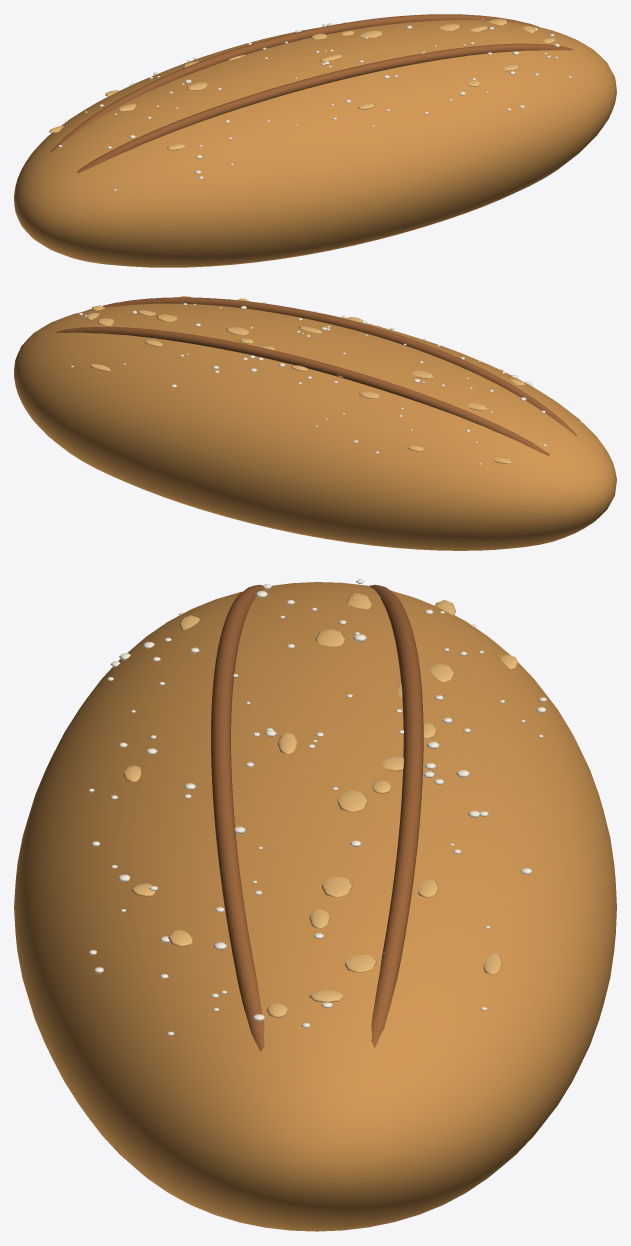
The model's file is Teleras.glb.
3 renders of one model, top to bottom at view 1: azimuth 30°, elevation 25°; view 2: azimuth 150°, elevation 25°; view 3: azimuth 270°, elevation 25°, orthographic. The views are drawn at different scales.
Parts seen in each view (by area): view 1: Telera_Mexicana, Hendidura_Izquierda, Hendidura_Derecha; view 2: Telera_Mexicana, Hendidura_Derecha, Hendidura_Izquierda; view 3: Telera_Mexicana, Hendidura_Izquierda, Hendidura_Derecha.
Part boxes in pixels (bbox=[...]): Telera_Mexicana: bbox=[14, 20, 616, 267]; Hendidura_Izquierda: bbox=[77, 43, 573, 172]; Hendidura_Derecha: bbox=[50, 14, 538, 152]; Telera_Mexicana: bbox=[14, 303, 616, 550]; Hendidura_Derecha: bbox=[55, 327, 549, 456]; Hendidura_Izquierda: bbox=[84, 297, 577, 435]; Telera_Mexicana: bbox=[14, 582, 616, 1231]; Hendidura_Izquierda: bbox=[211, 584, 264, 1051]; Hendidura_Derecha: bbox=[369, 584, 423, 1048].
Size of the model in its own units: 1.56 by 0.3881 by 0.72.
